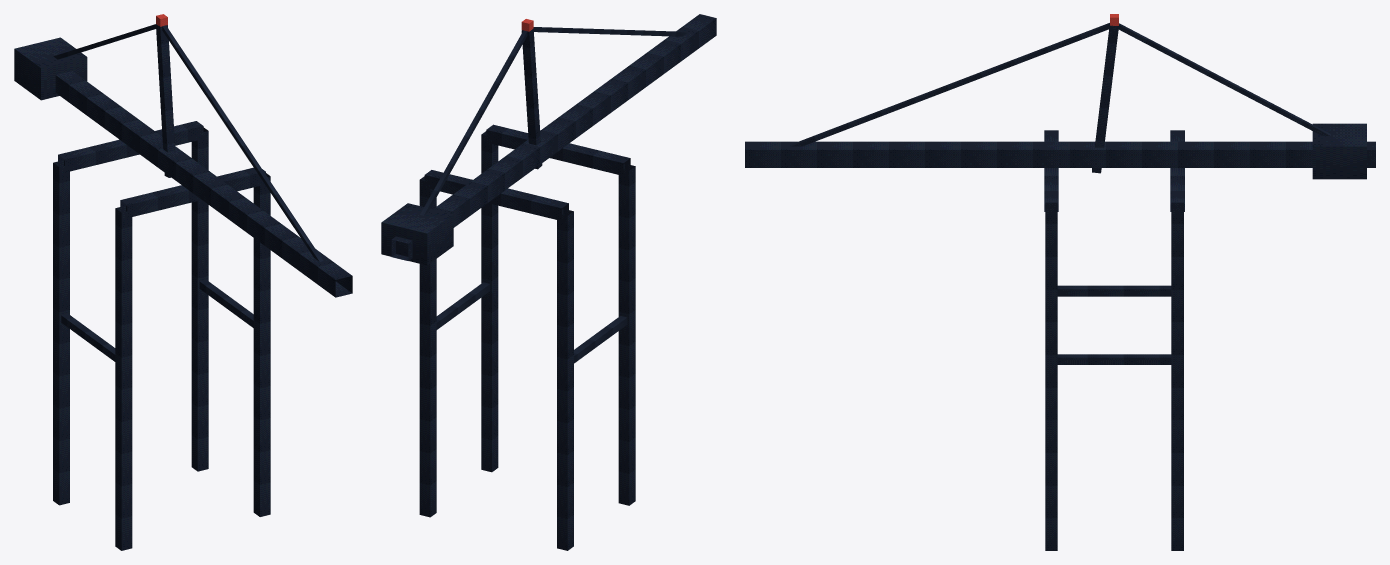
The model's file is wangan_crane.glb.
3 renders of one model, left to right at view 1: azimuth 30°, elevation 25°; view 2: azimuth 150°, elevation 25°; view 3: azimuth 270°, elevation 25°, orthographic. The views are drawn at different scales.
Parts seen in each view (by area): view 1: wangan_crane; view 2: wangan_crane; view 3: wangan_crane.
Part boxes in pixels (x1,y1,x2,y2): wangan_crane: (14, 14, 352, 550); wangan_crane: (381, 14, 716, 550); wangan_crane: (745, 14, 1375, 550).
Bounding box in the file's own units: 19.4 × 61 × 70.
Materials: 2 (2 with a texture image).
